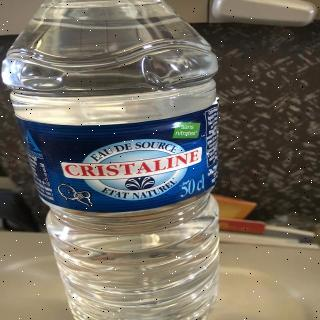Plastic-bottle: (1, 1, 241, 320)
